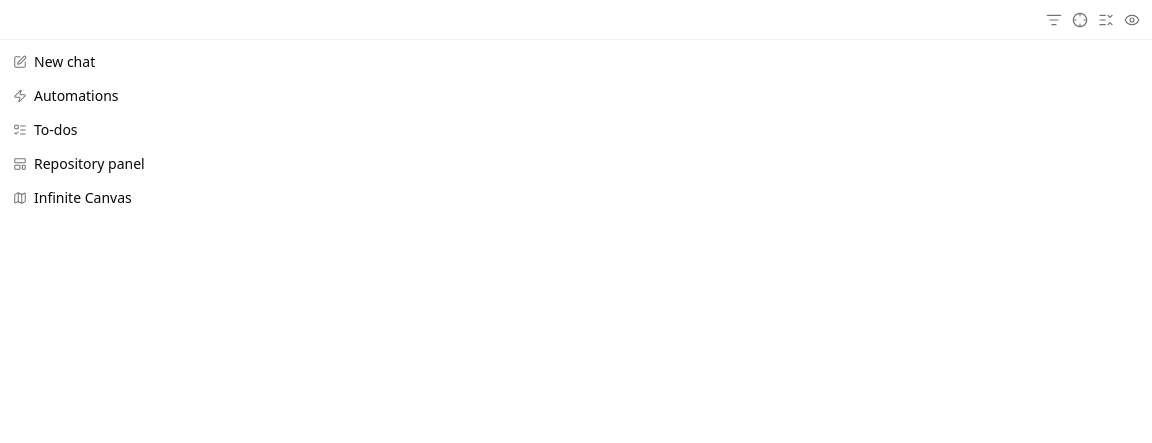
Test case: Sidebar — Section order control › disables the move buttons that would fall off an end
Click the button named "View options" at (1132, 20), box [1120, 8, 1144, 32]
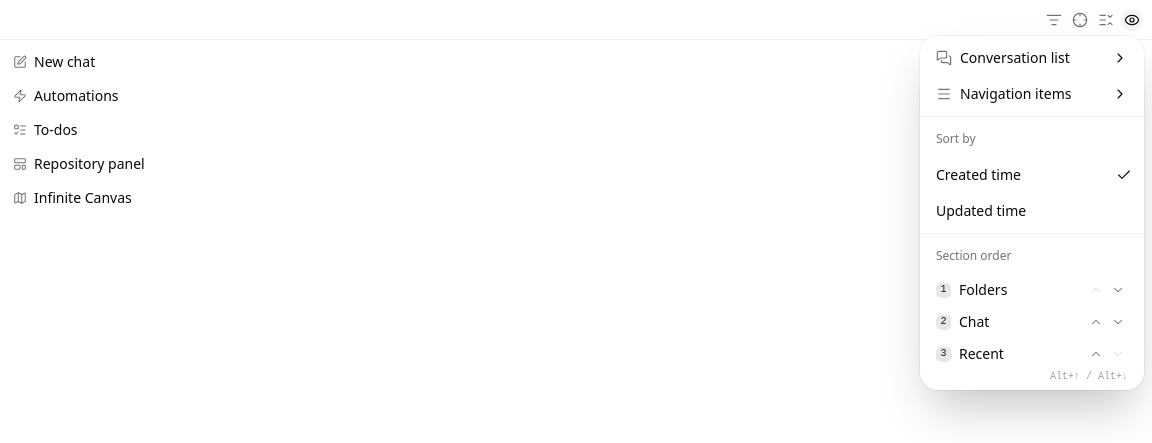
Expected: the button named "Folders — Move up" is disabled, [1086, 280, 1106, 300]
Expected: the button named "Folders — Move down" is enabled, [1108, 280, 1128, 300]
